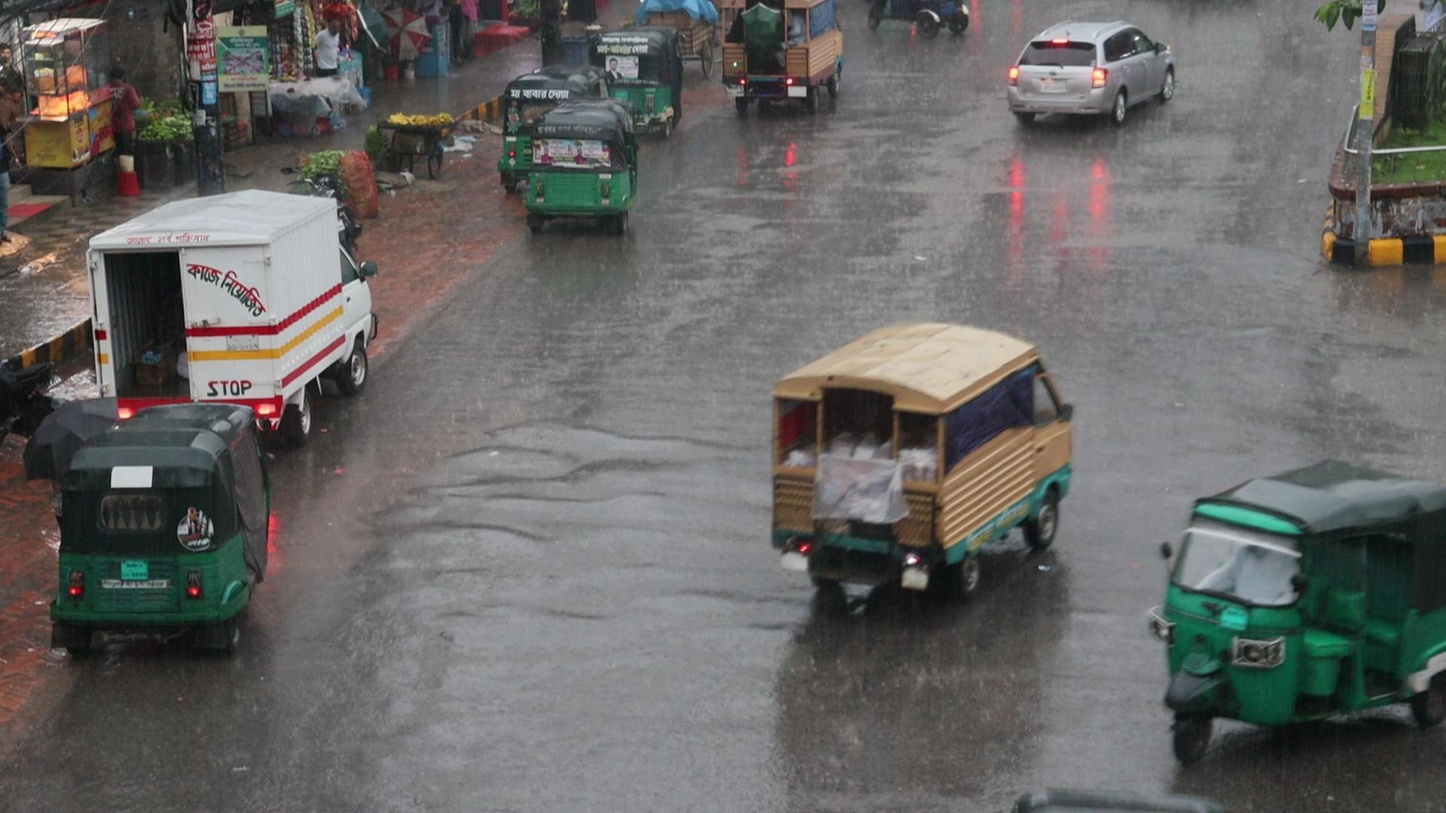Car: (1000, 18, 1181, 131)
Truck: (768, 317, 1079, 605), (710, 0, 846, 126)
